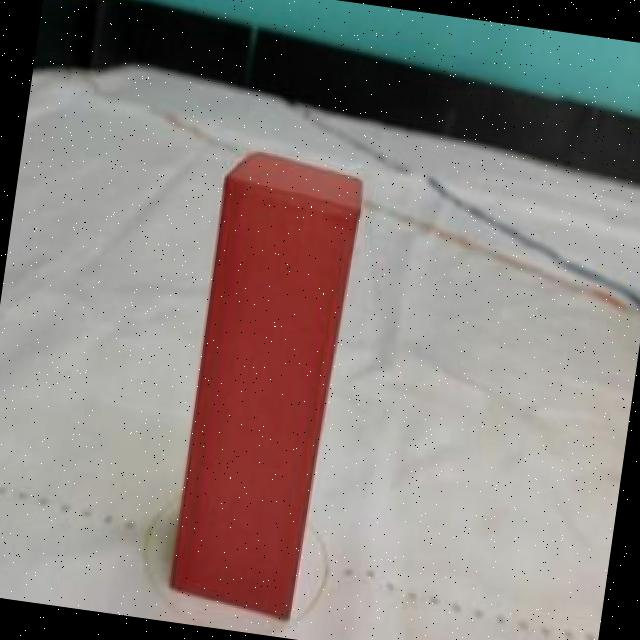redbox: (162, 142, 370, 624)
